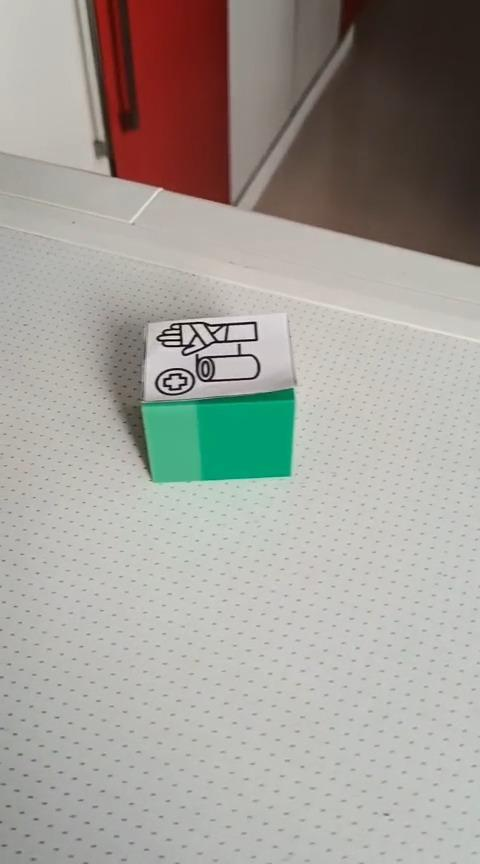Bandages: (141, 312, 295, 481)
